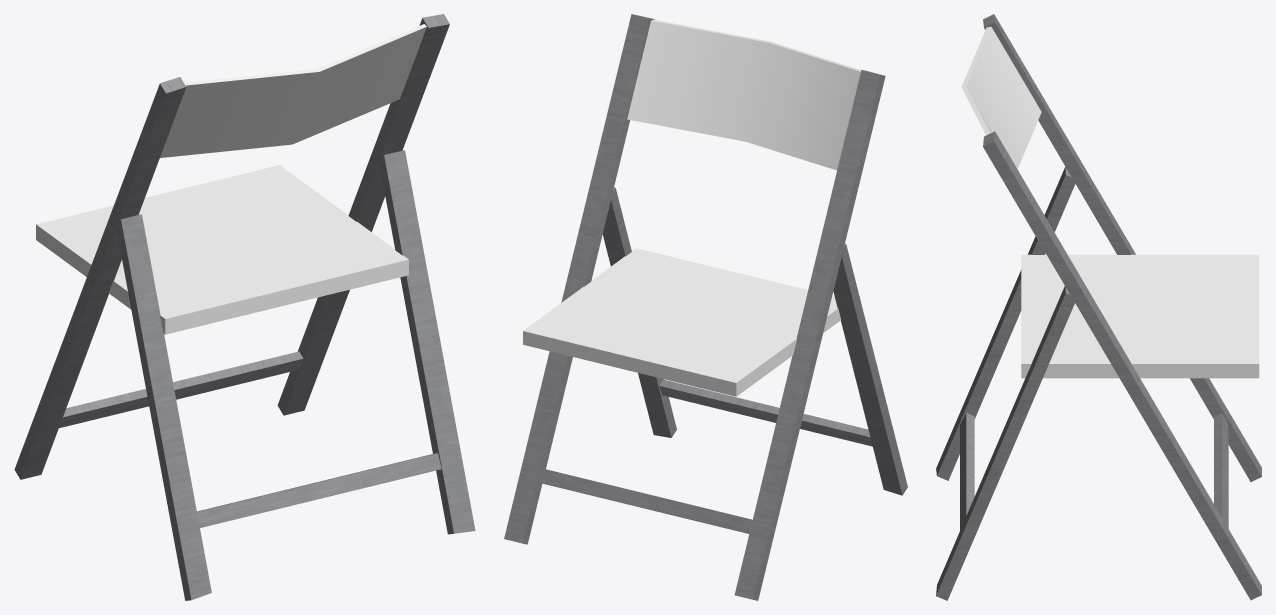
Rendered from Chair_08.glb.
The picture shows the model from 3 angles, left to right: view 1: azimuth 30°, elevation 25°; view 2: azimuth 150°, elevation 25°; view 3: azimuth 270°, elevation 25°; orthographic projection. The views are drawn at different scales.
Parts seen in each view (by area): view 1: Chair_08; view 2: Chair_08; view 3: Chair_08.
Part boxes in pixels (x1,y1,x2,y2): Chair_08: [14, 14, 475, 600]; Chair_08: [504, 14, 907, 600]; Chair_08: [936, 14, 1261, 600].
Bounding box in the file's own units: 0.5468 × 0.9199 × 0.5903.
2 materials, 1 textured.
